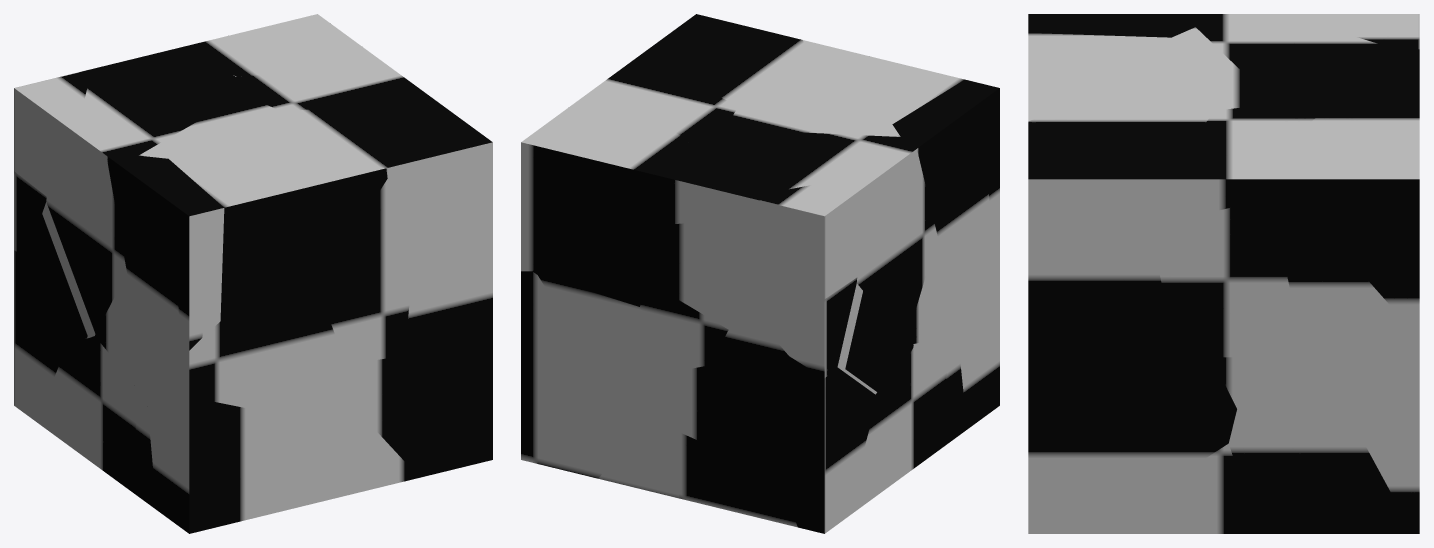
File: cubikon.obj
3 views of the same model, side by side, from view 1: azimuth 30°, elevation 25°; view 2: azimuth 150°, elevation 25°; view 3: azimuth 270°, elevation 25° (orthographic). The views are drawn at different scales.
Parts seen in each view (by area): view 1: cubikon-full-stack001; view 2: cubikon-full-stack001; view 3: cubikon-full-stack001.
Boxes of the visible parts, x1,y1,x2,y2 form: cubikon-full-stack001: (14, 14, 492, 533); cubikon-full-stack001: (521, 14, 999, 533); cubikon-full-stack001: (1028, 14, 1419, 533).
Bounding box in the file's own units: 212 × 207 × 207.
Materials: 1 (1 with a texture image).
